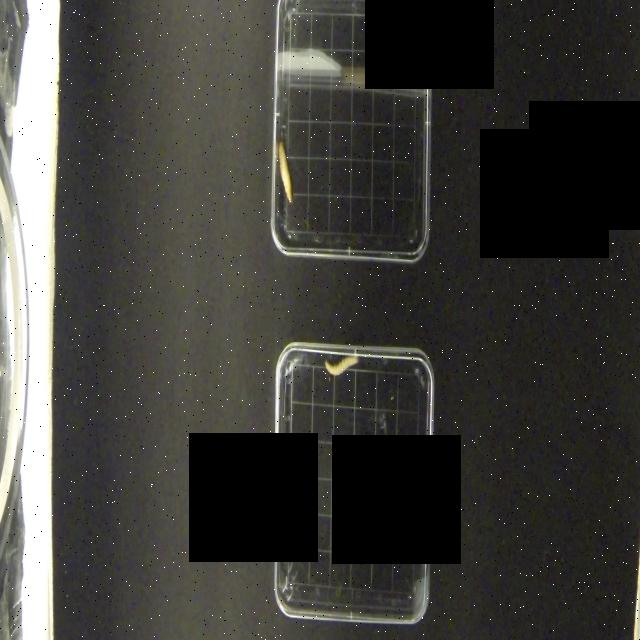larva: (279, 145, 293, 201), (324, 356, 362, 376)
